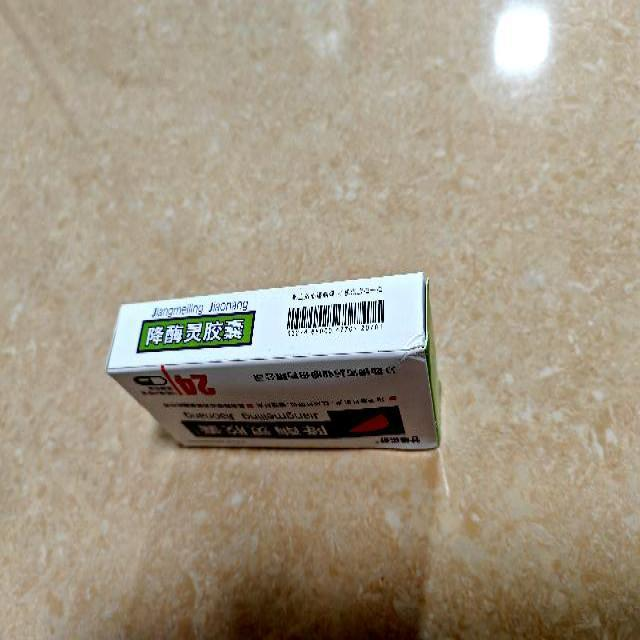box: (105, 270, 442, 450)
